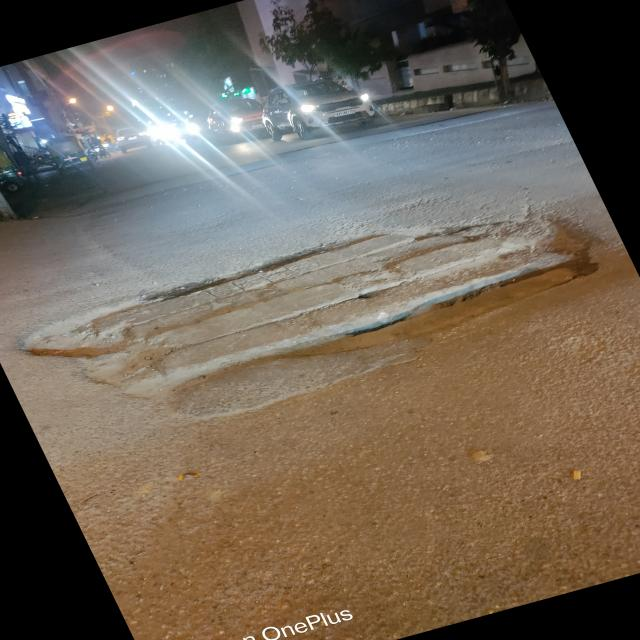potholes: (29, 196, 598, 414)
